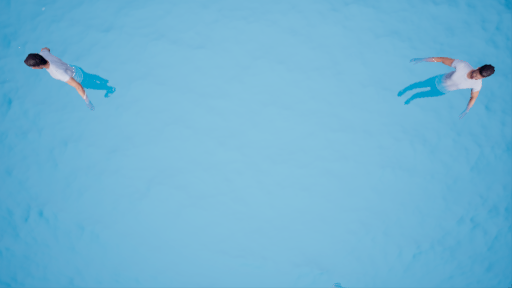person: (399, 52, 498, 118), (20, 47, 118, 109)
